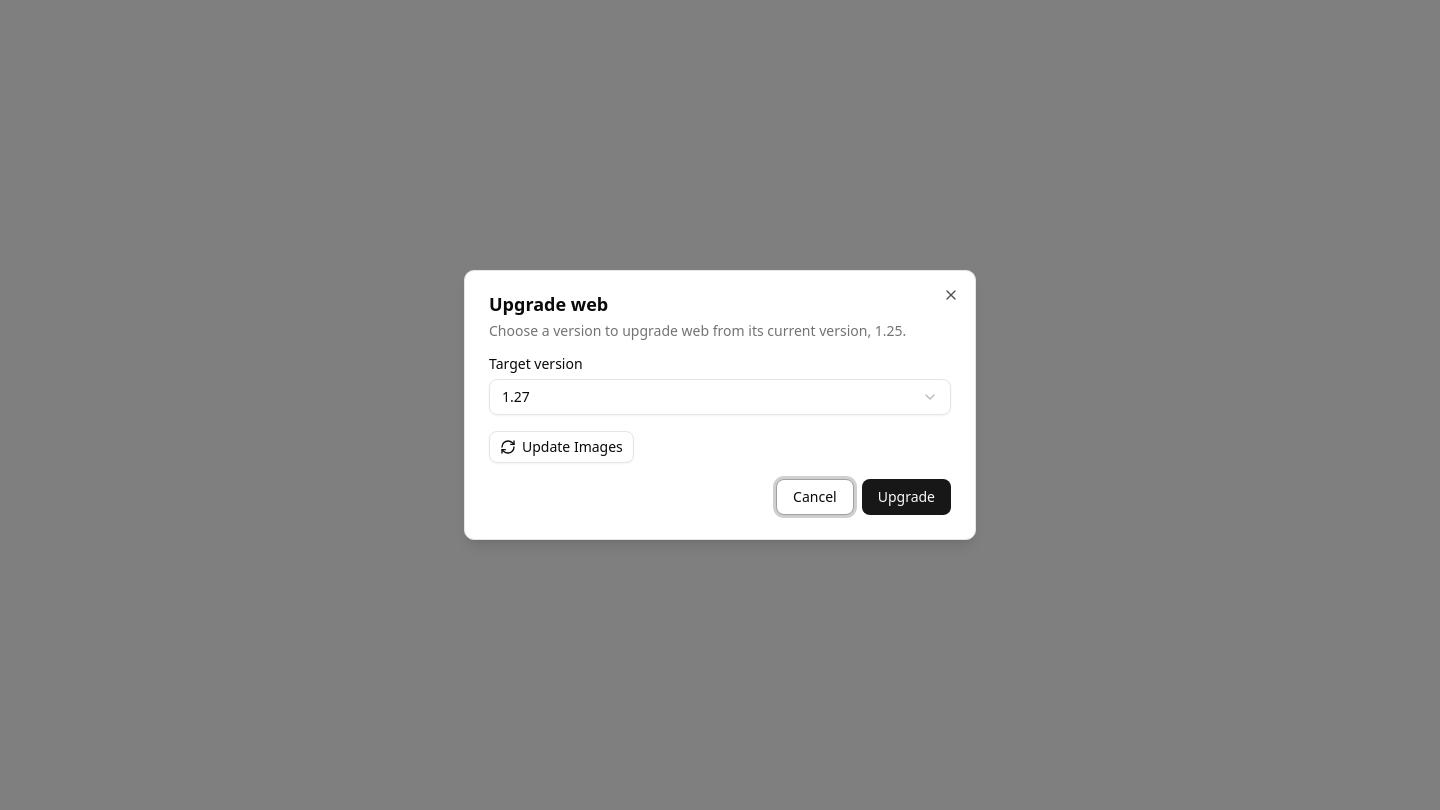
Scenario: ServiceUpgradeDialog › renders one option per candidate with the latest preselected
The image size is (1440, 810).
Click the dropdown named "target version": (516, 396) [489, 379, 951, 415]
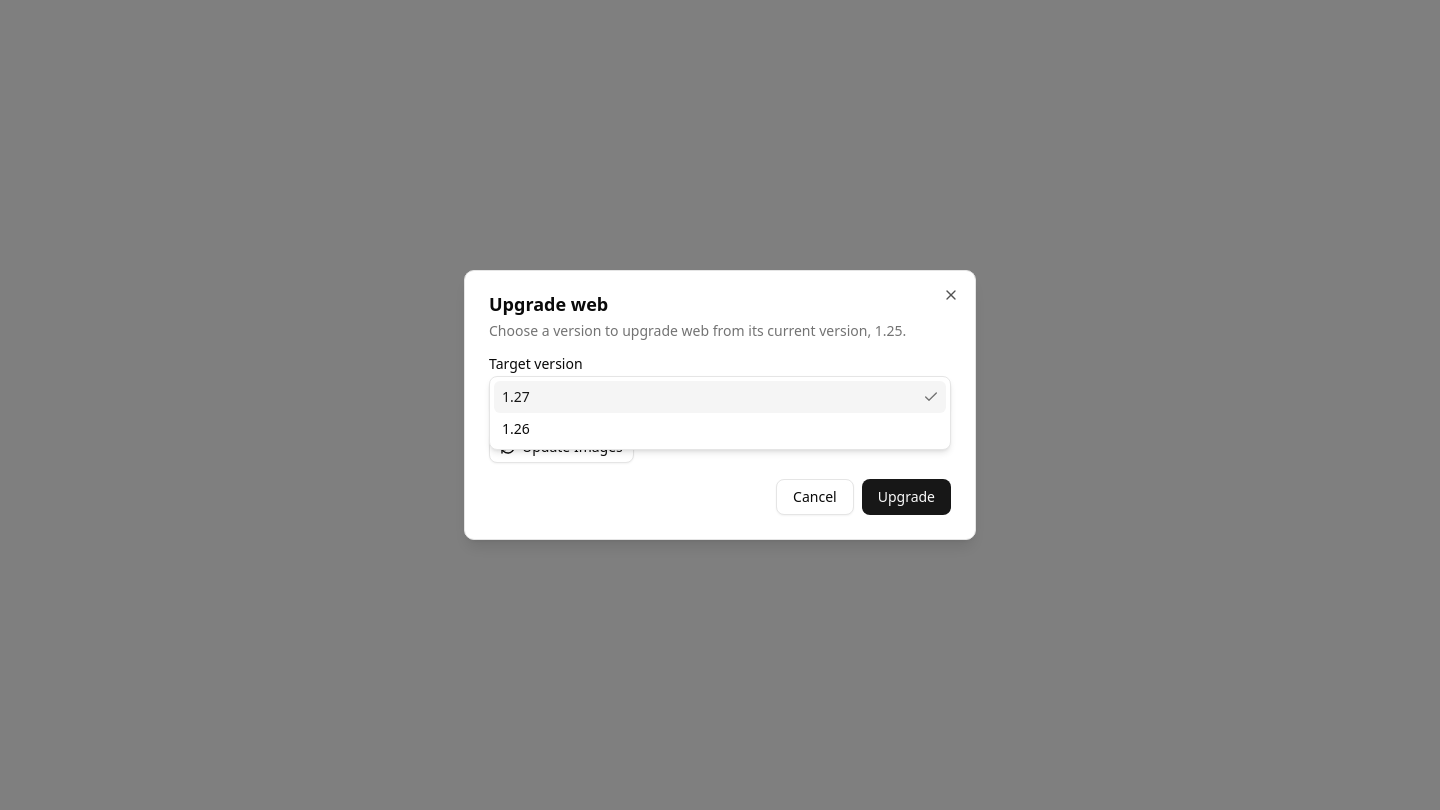
Result: the number of options is 2 at [494, 381, 946, 413]; [502, 419, 530, 438]
Result: the options read "1.27", "1.26", in this order at [494, 381, 946, 413]; [502, 419, 530, 438]
